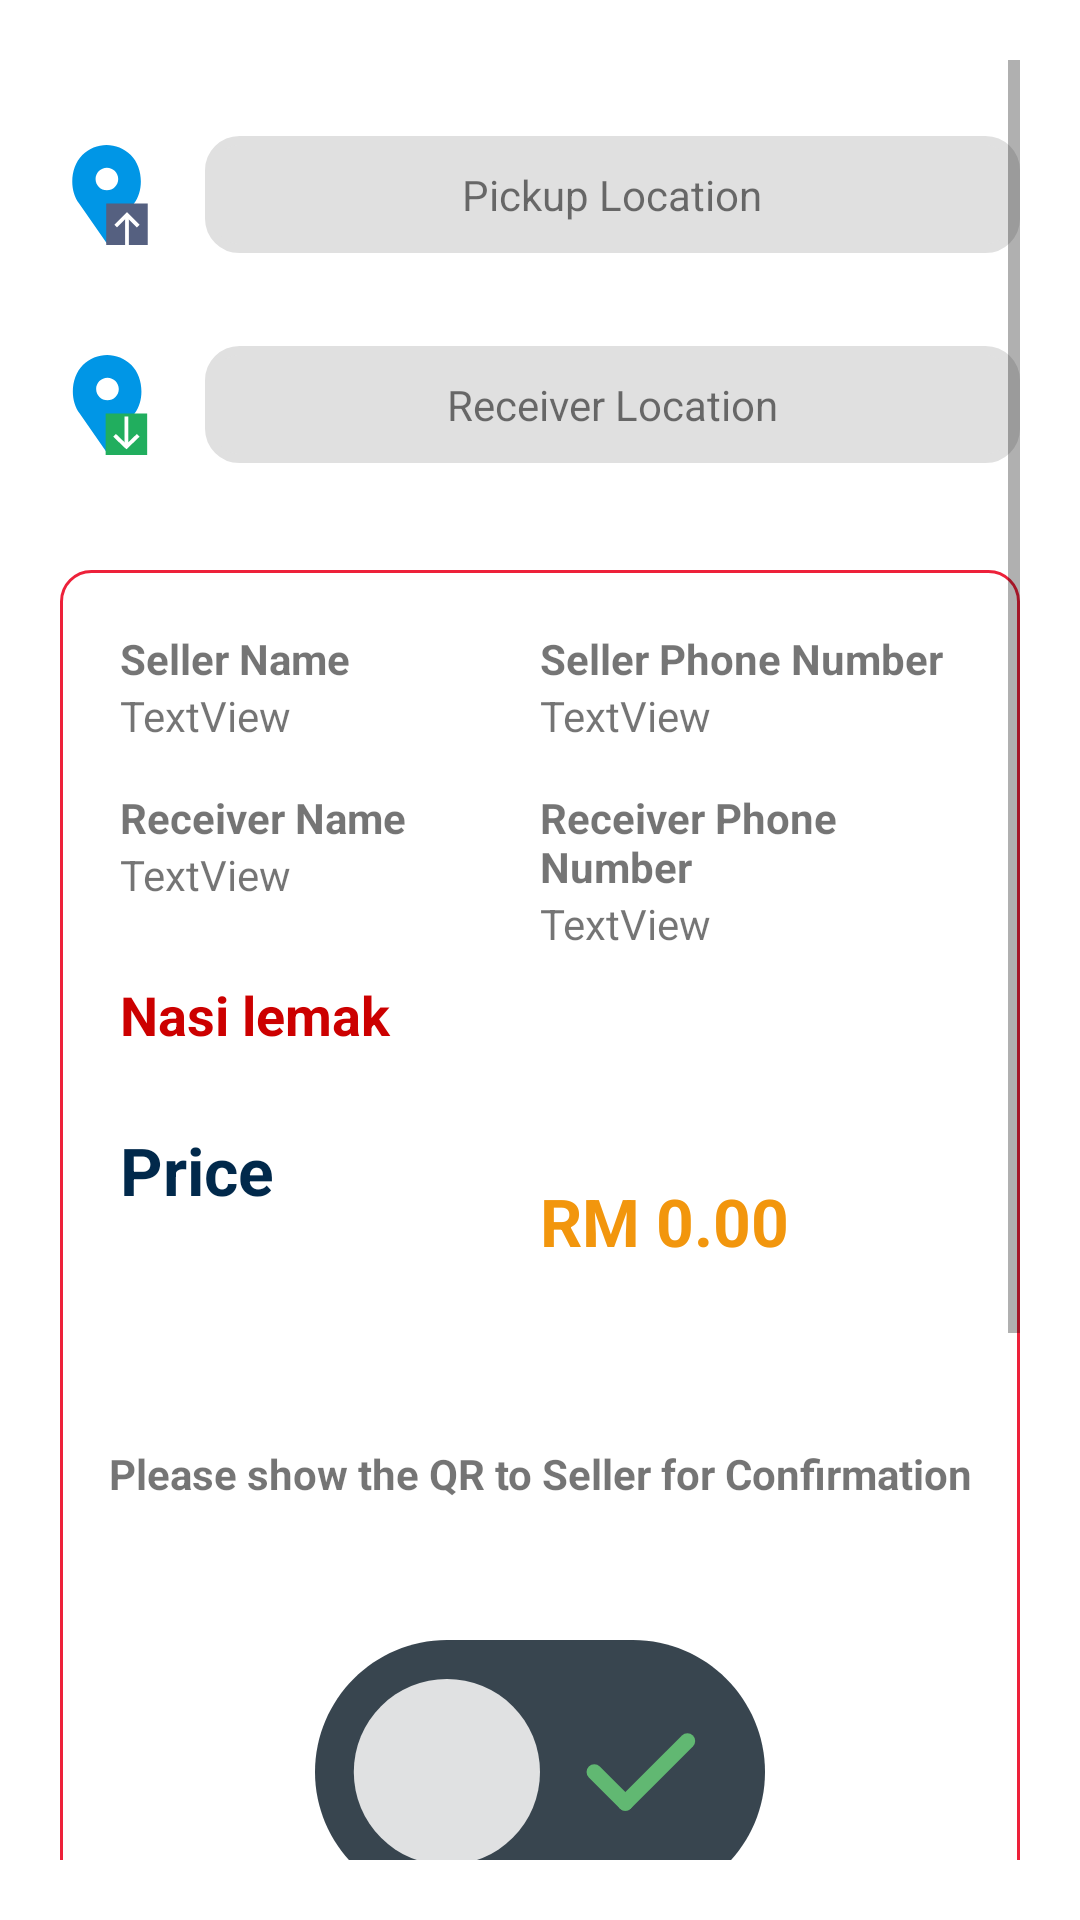

Screen size 1080x1920. Icon name, then its center in pixels as point (x, y):
pickupaddress: point (110, 195)
sendaddress: point (110, 405)
